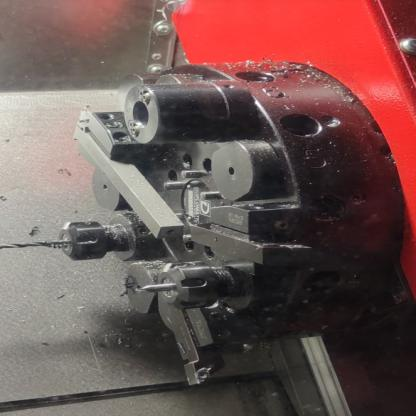bit: (65, 98, 189, 241), (184, 197, 326, 282), (161, 299, 238, 392)
